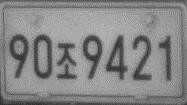0: (32, 33, 53, 80)
1: (157, 33, 174, 80)
2: (131, 35, 154, 82)
4: (105, 34, 130, 81)
9: (7, 33, 30, 79), (82, 34, 103, 80)
조: (54, 41, 79, 80)
